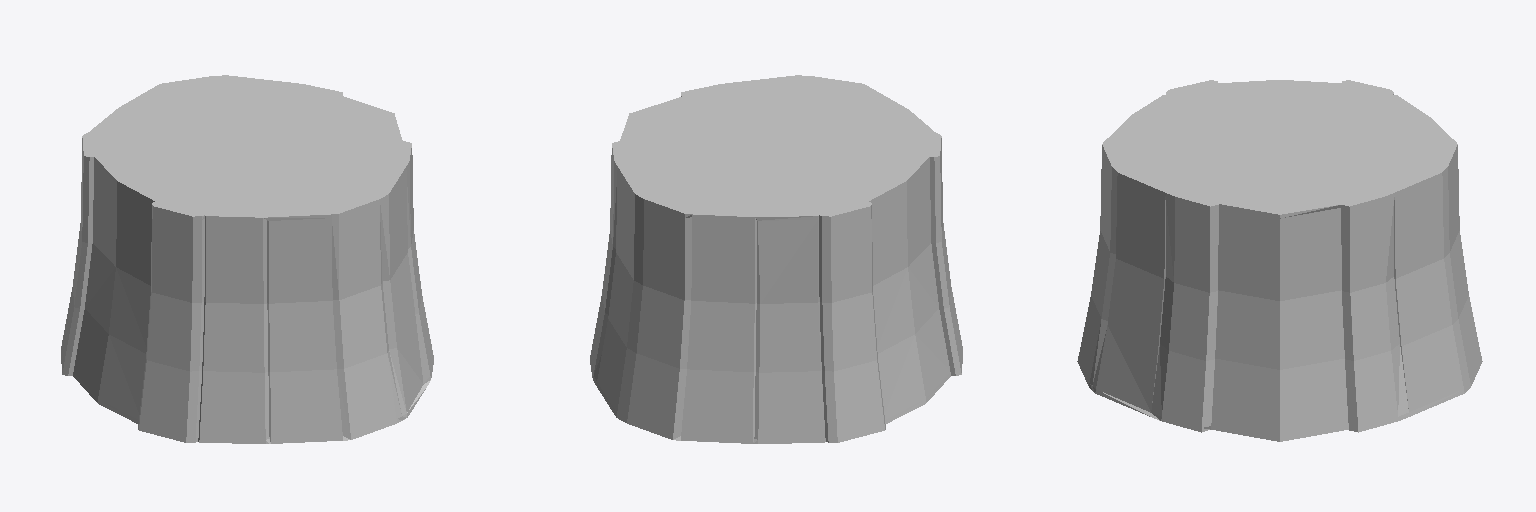
File: tree_stump.obj
3 renders of one model, left to right at view 1: azimuth 30°, elevation 25°; view 2: azimuth 150°, elevation 25°; view 3: azimuth 270°, elevation 25°, orthographic.
Parts seen in each view (by area): view 1: tree_stump; view 2: tree_stump; view 3: tree_stump.
Part boxes in pixels (x1,y1,x2,y2): tree_stump: (61,75,433,443); tree_stump: (590,75,962,443); tree_stump: (1077,80,1482,441).
Bounding box in the file's own units: 3.84 × 2.52 × 4.25.